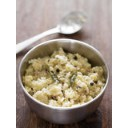venpongal: (30, 52, 96, 101)
